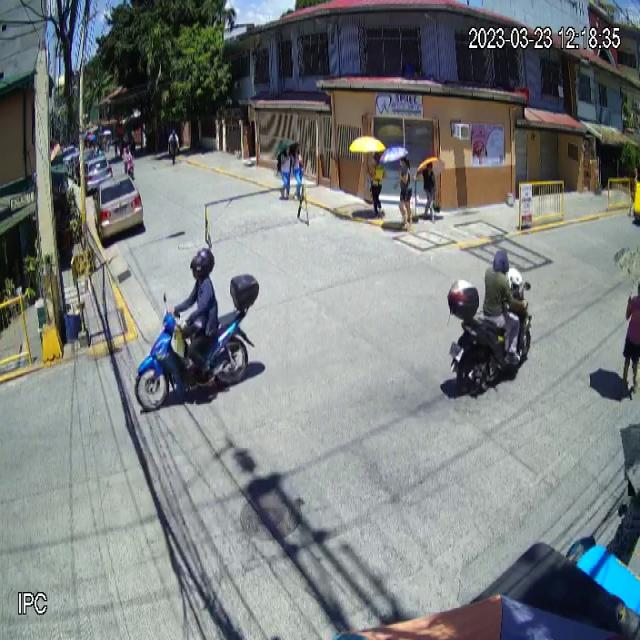Motorcycle: (132, 272, 261, 412), (446, 274, 533, 392)
